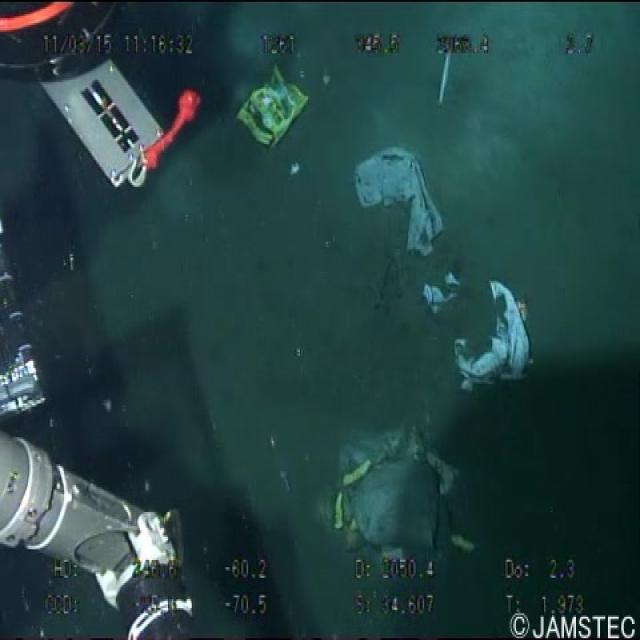plastic: (416, 270, 540, 396), (350, 142, 446, 265), (228, 57, 312, 146)
